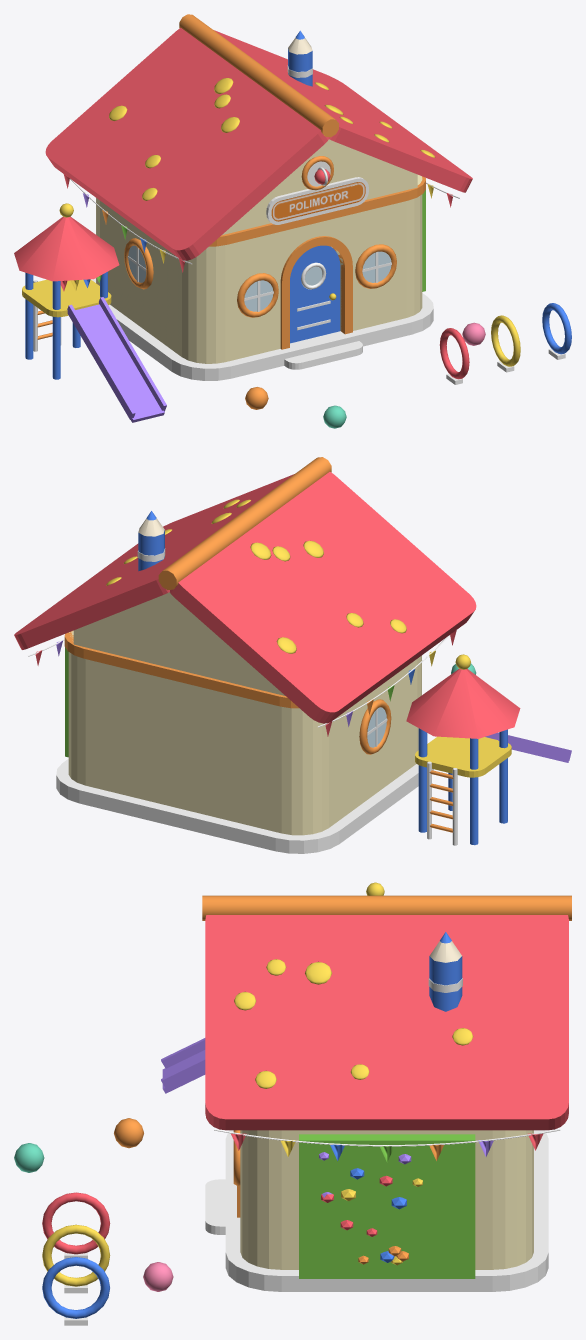
Rendered from polimotor.glb.
The picture shows the model from 3 angles, top to bottom: view 1: azimuth 30°, elevation 25°; view 2: azimuth 150°, elevation 25°; view 3: azimuth 270°, elevation 25°; orthographic projection. The views are drawn at different scales.
Parts seen in each view (by area): view 1: teja (×2), muros, base, torre_techo, hastial_frente, hoja, cumbrera, tobogan, marco, aro (×3), cinta, letrero_texto (+13 smaller); view 2: teja (×2), muros, hastial_fondo, base, torre_techo, cumbrera, cinta, torre_plataforma, torre_poste_1, torre_poste_2, aro, tobogan_borde_1 (+3 smaller); view 3: teja, muro_escalada, muros, base, cumbrera, aro_3, aro_2, aro_1, cuerpo, escalon, cuerda, pelota_3 (+3 smaller).
Boxes of the visible parts, x1,y1,x2,y2 form: teja (×2): (45, 28, 472, 260); muros: (96, 176, 422, 363); base: (92, 278, 433, 380); torre_techo: (14, 216, 119, 281); hastial_frente: (222, 139, 417, 234); hoja: (290, 245, 340, 343); cumbrera: (179, 14, 338, 137); tobogan: (75, 304, 164, 422); marco: (280, 236, 352, 349); aro (×3): (124, 238, 396, 317); cinta: (209, 176, 425, 246); letrero_texto: (271, 182, 365, 221); teja (×2): (14, 472, 476, 723); muros: (68, 632, 421, 835); hastial_fondo: (73, 592, 285, 695); base: (56, 759, 433, 853); torre_techo: (406, 669, 520, 738); cumbrera: (158, 457, 331, 589); cinta: (64, 631, 298, 708); torre_plataforma: (415, 736, 511, 777); torre_poste_1: (470, 738, 478, 845); torre_poste_2: (418, 728, 427, 832); aro: (359, 699, 391, 754); tobogan_borde_1: (498, 735, 571, 760); teja: (205, 915, 568, 1130); muro_escalada: (299, 1134, 475, 1278); muros: (240, 1130, 533, 1269); base: (225, 1130, 548, 1291); cumbrera: (202, 895, 571, 920); aro_3: (42, 1257, 109, 1318); aro_2: (42, 1224, 110, 1286); aro_1: (42, 1192, 110, 1254); cuerpo: (429, 956, 462, 1011); escalon: (205, 1179, 225, 1234); cuerda: (214, 1129, 560, 1146); pelota_3: (143, 1262, 173, 1291).
Bounding box in the file's own units: 10.8 × 6.02 × 9.51.
13 materials, 1 textured.
